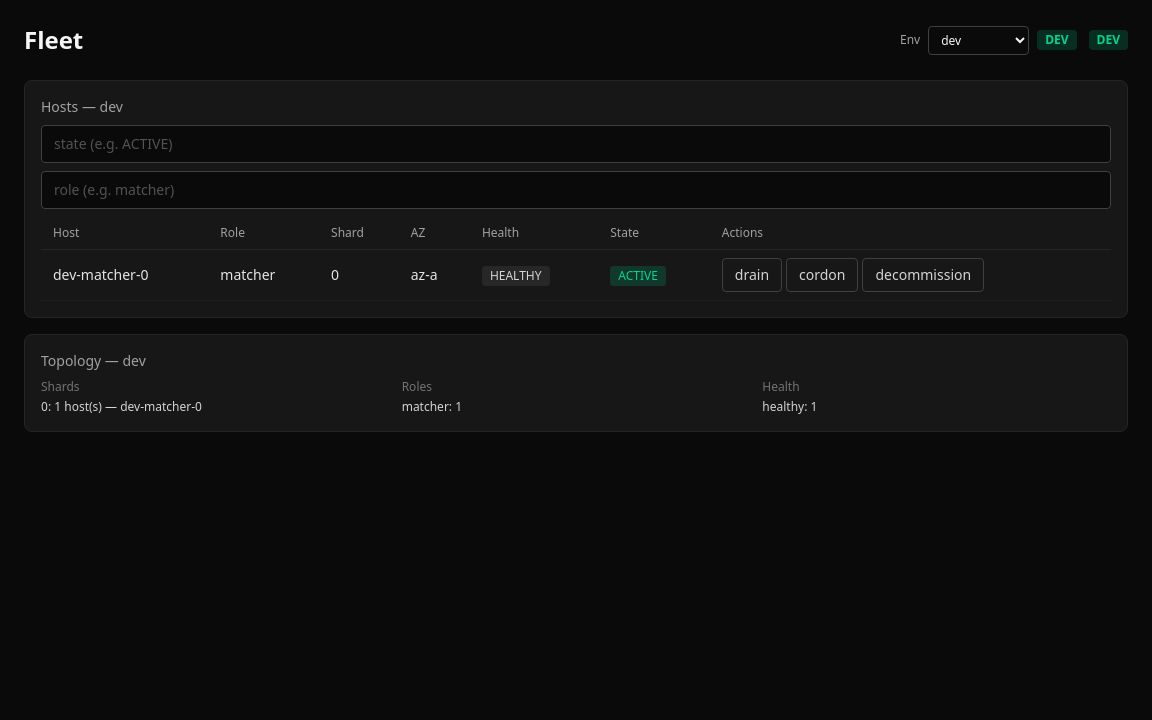
Test: environment switcher › requires explicit confirmation before entering production
Expected: the text "dev-matcher-0" is shown, [41,250,208,300]
Select "production" in the dropdown named "Admin environment" at point(979, 40), box [928,26,1029,54]
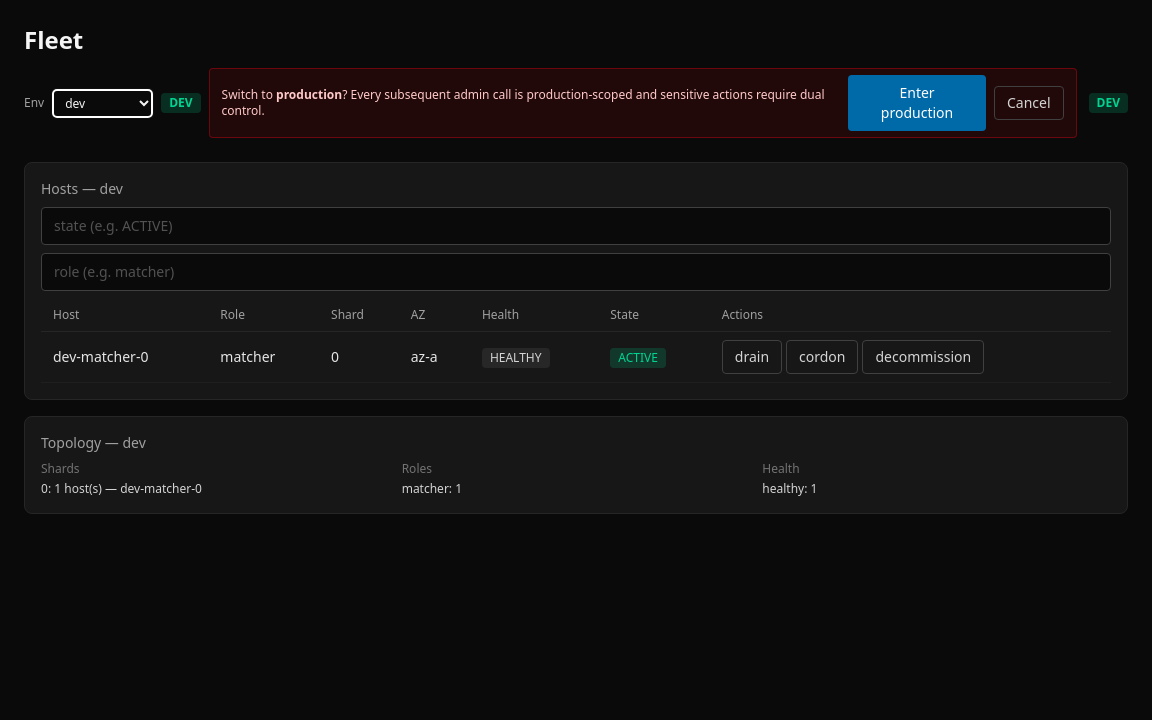
Result: the dialog is shown at [209,68,1077,138]
Click the button "Enter production" at point(917, 103), box [848,75,986,131]
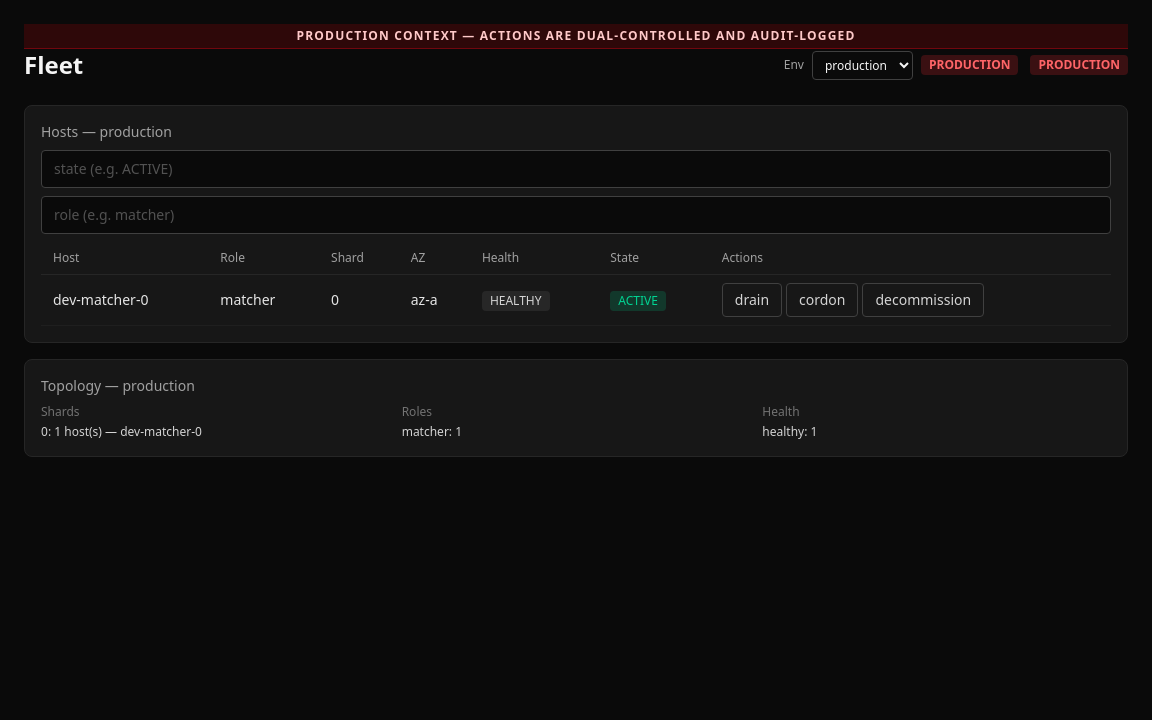
Result: the text with test id "prod-watermark" is shown at [24,24,1128,49]
